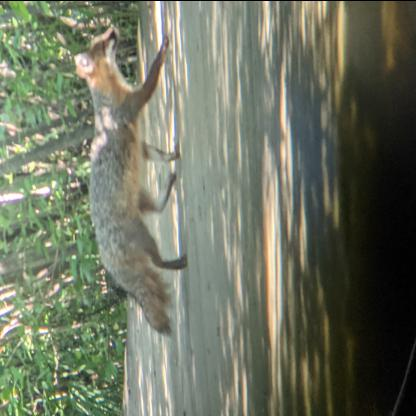zorro: (69, 7, 197, 344)
